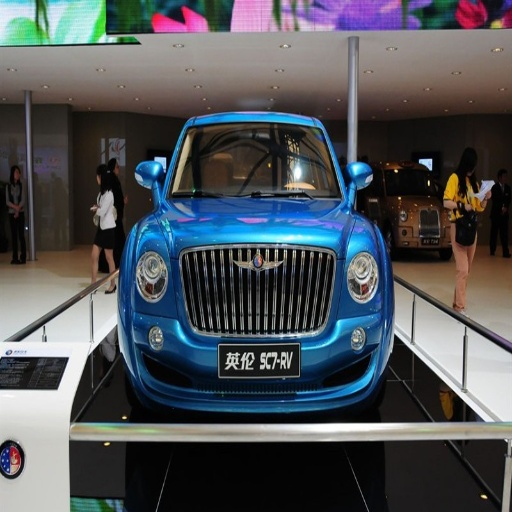front_bumper: (122, 244, 392, 419)
hood: (159, 197, 358, 257)
